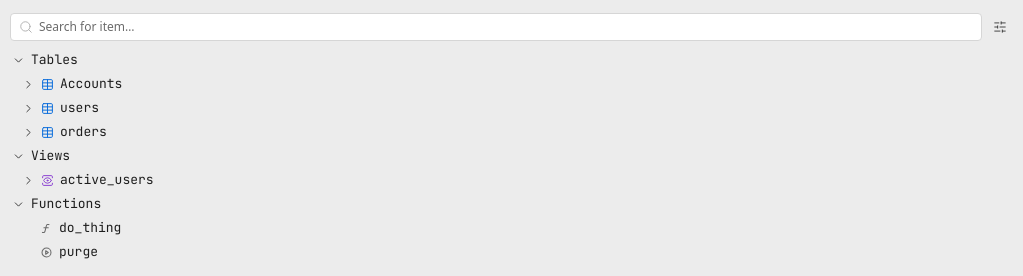
Test: sidebar filter is case-insensitive and keeps tables before views
Expected: the list item "Accounts" is shown, [22,75,122,92]
Type "USER" into the search field at [506, 27], box [39,18,973,36]
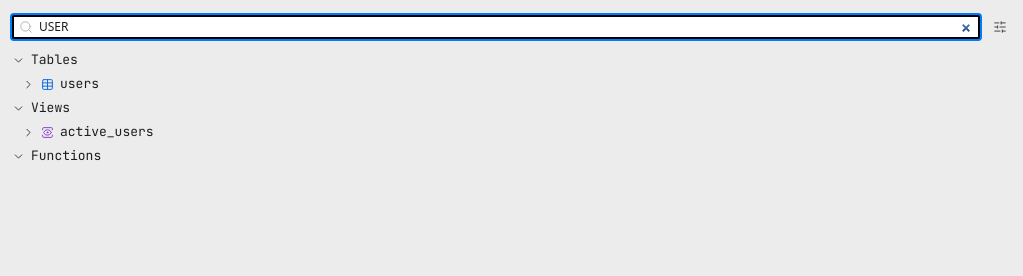
Expected: the text "users" is shown, [60,75,99,93]
Expected: the text "orders" is gone
